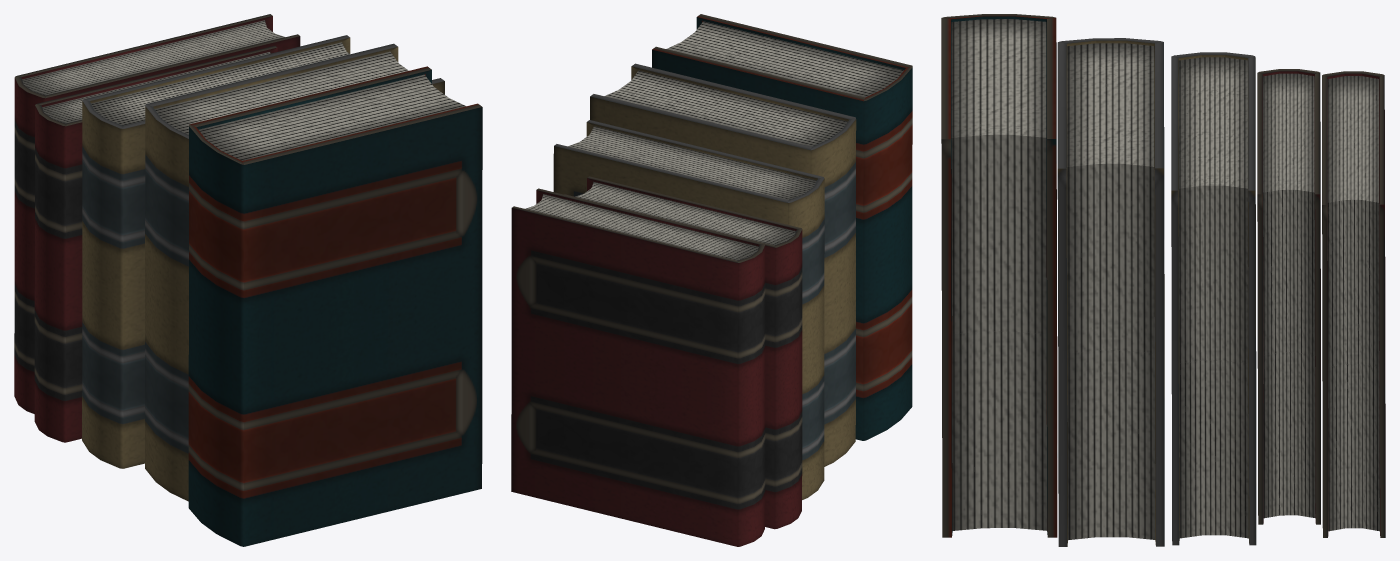
File: CI_073_books_var1.glb
3 renders of one model, left to right at view 1: azimuth 30°, elevation 25°; view 2: azimuth 150°, elevation 25°; view 3: azimuth 270°, elevation 25°, orthographic. The views are drawn at different scales.
Visible parts, largest first — view 1: book_7, book_4, book_5, book_3, book_6; view 2: book_6, book_7, book_5, book_4, book_3; view 3: book_7, book_5, book_4, book_6, book_3.
Boxes of the visible parts, left/top/right/bottom form: book_7: left=188, top=66, right=482, bottom=546; book_4: left=82, top=35, right=350, bottom=468; book_5: left=145, top=43, right=444, bottom=501; book_3: left=34, top=46, right=277, bottom=442; book_6: left=14, top=14, right=300, bottom=413; book_6: left=511, top=188, right=765, bottom=546; book_7: left=652, top=14, right=912, bottom=440; book_5: left=590, top=63, right=856, bottom=466; book_4: left=553, top=120, right=824, bottom=499; book_3: left=564, top=176, right=802, bottom=529; book_7: left=941, top=14, right=1057, bottom=537; book_5: left=1057, top=38, right=1164, bottom=546; book_4: left=1171, top=52, right=1256, bottom=545; book_6: left=1322, top=71, right=1385, bottom=537; book_3: left=1257, top=69, right=1320, bottom=524.
Bounding box in the file's own units: 0.5931 × 0.7462 × 0.7529.
1 material, 1 textured.
